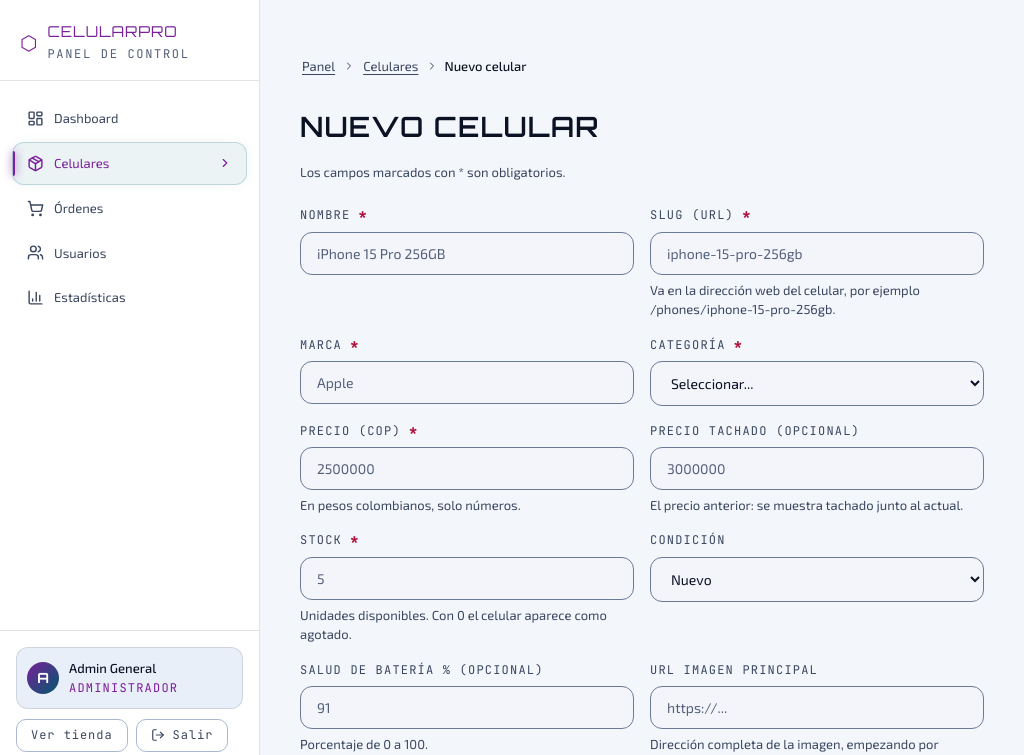
Test: ESC-30 · Seguridad (front) — administración del catálogo › al guardar, un 500 muestra el mensaje genérico y no el detalle interno
Check: the heading "Nuevo celular" is shown, box [300,109,599,144]
Type "Galaxy S24" into the field labelled "Nombre" at x=467, y=253, box [300,232,634,275]
Type "galaxy-s24" into the field labelled "Slug (URL)" at x=817, y=253, box [650,232,984,275]
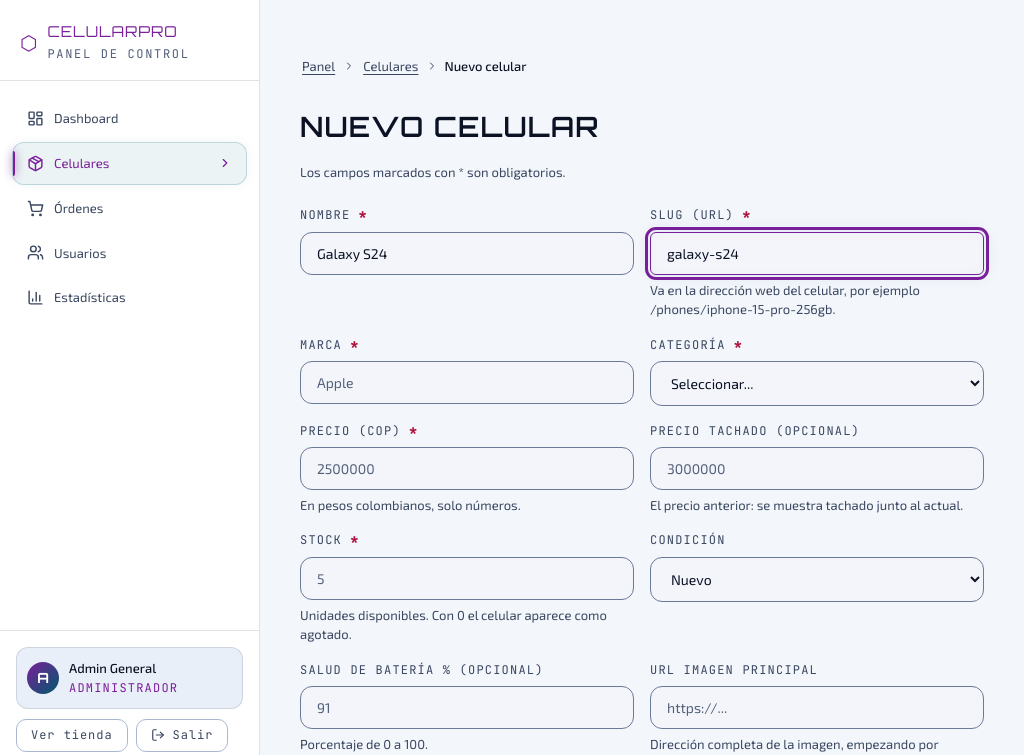
Type "Samsung" into the field labelled "Marca" at x=467, y=382, box [300,361,634,404]
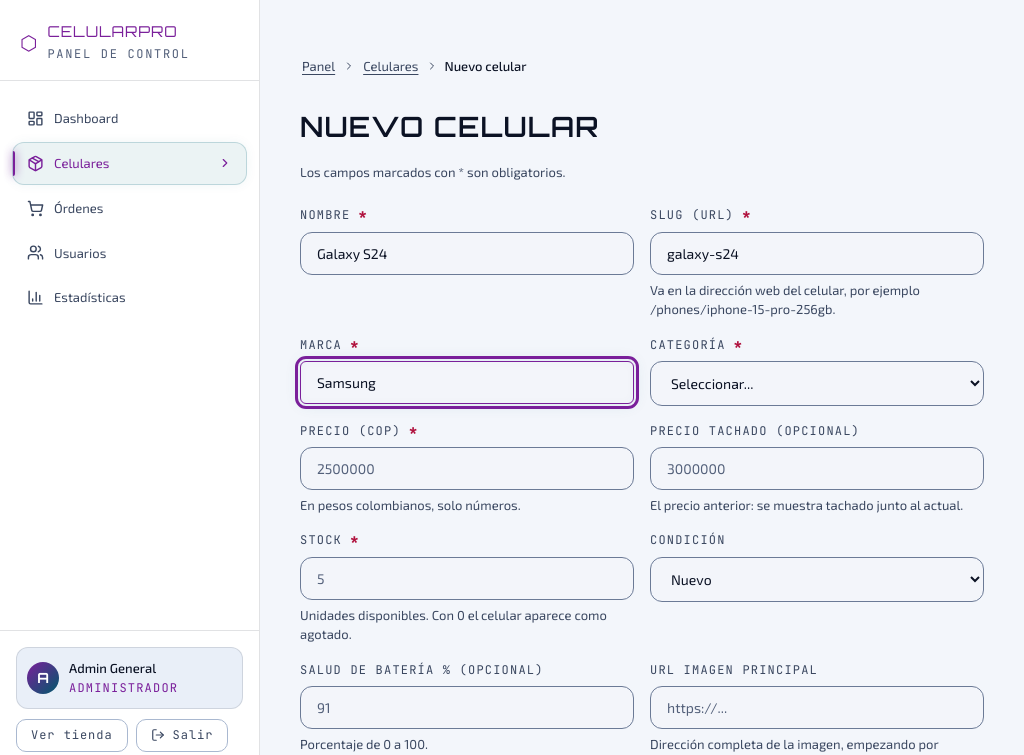
Select "Samsung" in the dropdown labelled "Categoría" at x=817, y=383, box [650,361,984,406]
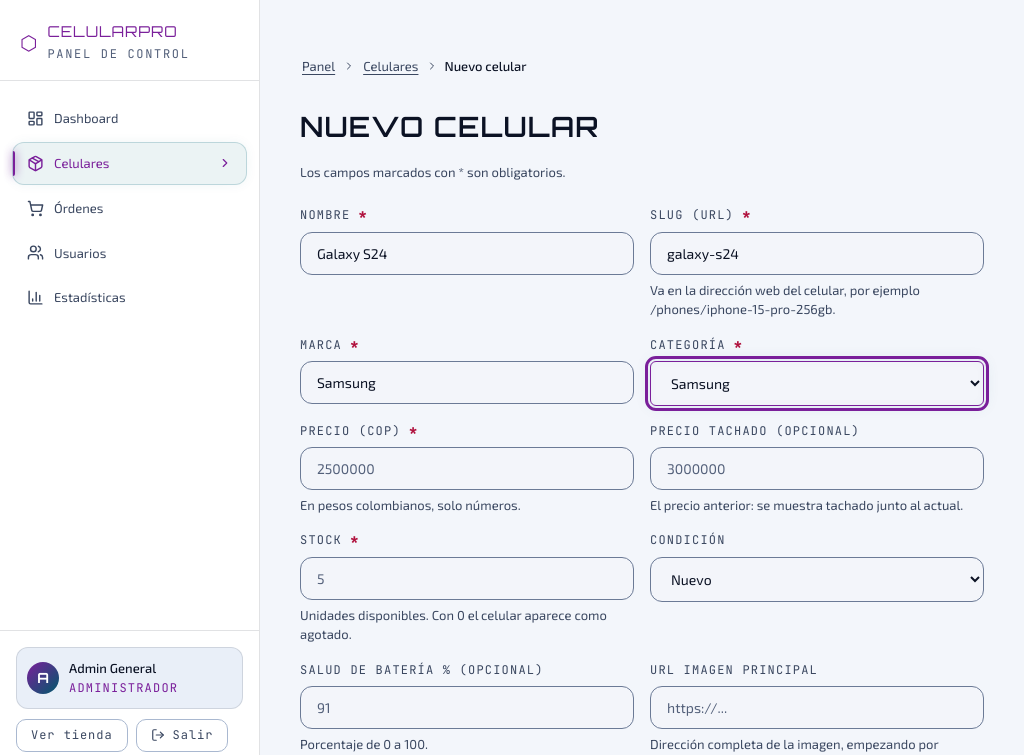
Type "3500000" into the number field labelled "Precio (COP)" at x=467, y=468, box [300,447,634,490]
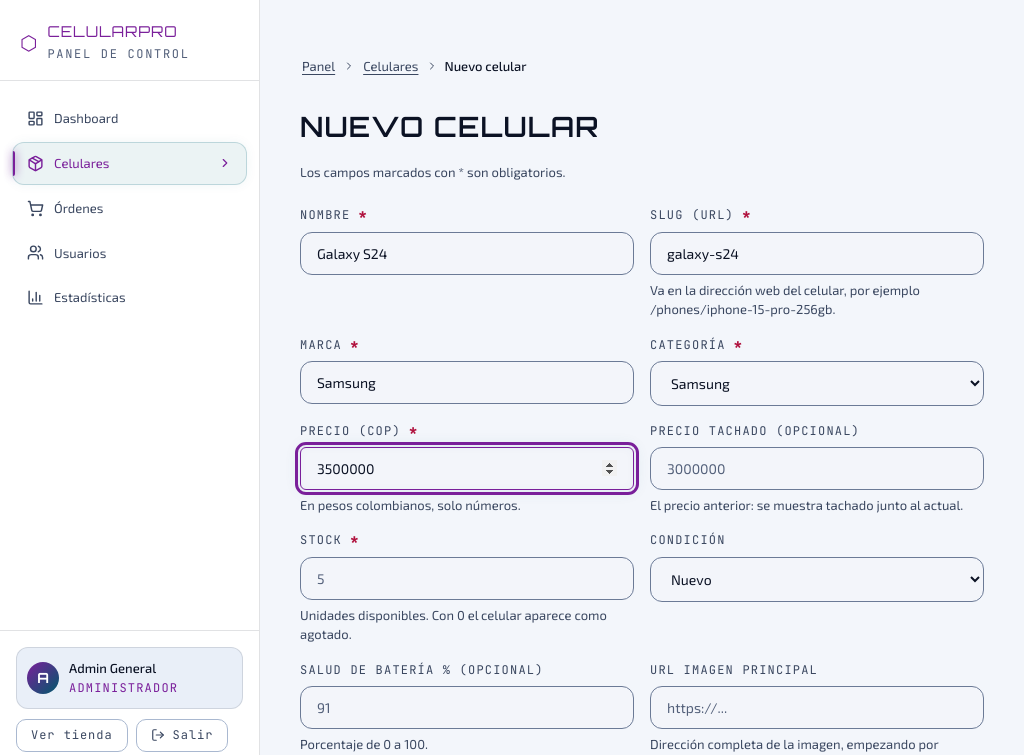
Type "4" into the number field labelled "Stock" at x=467, y=578, box [300,557,634,600]
(page scrolled)
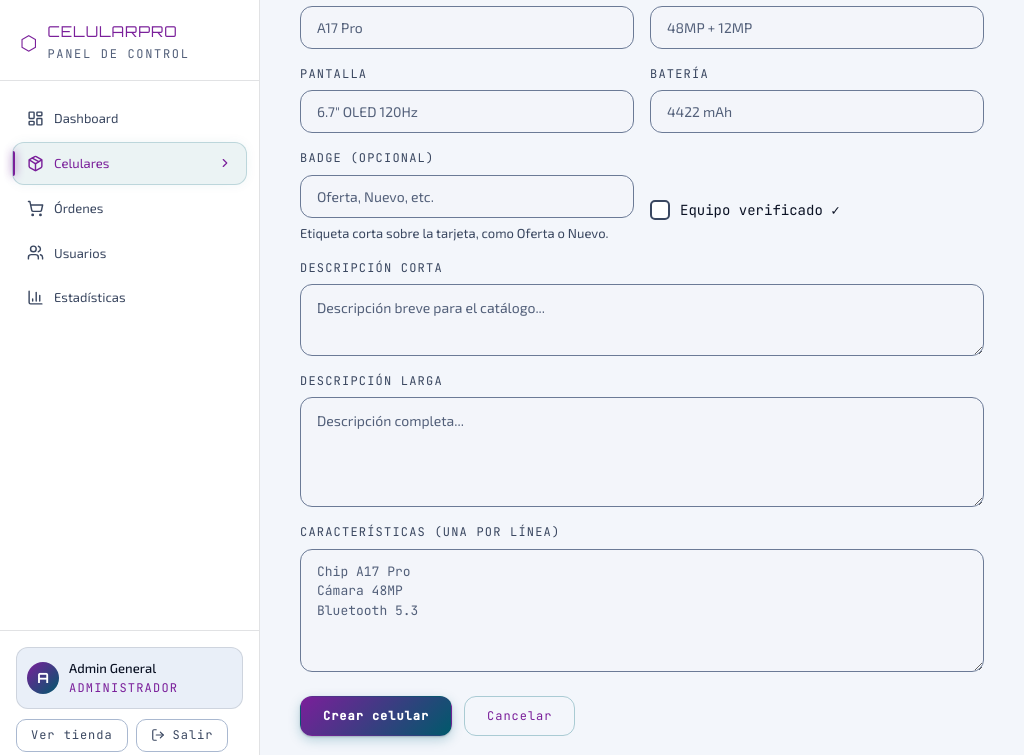
Click the button "Crear celular" at x=376, y=716, box [300,696,452,736]
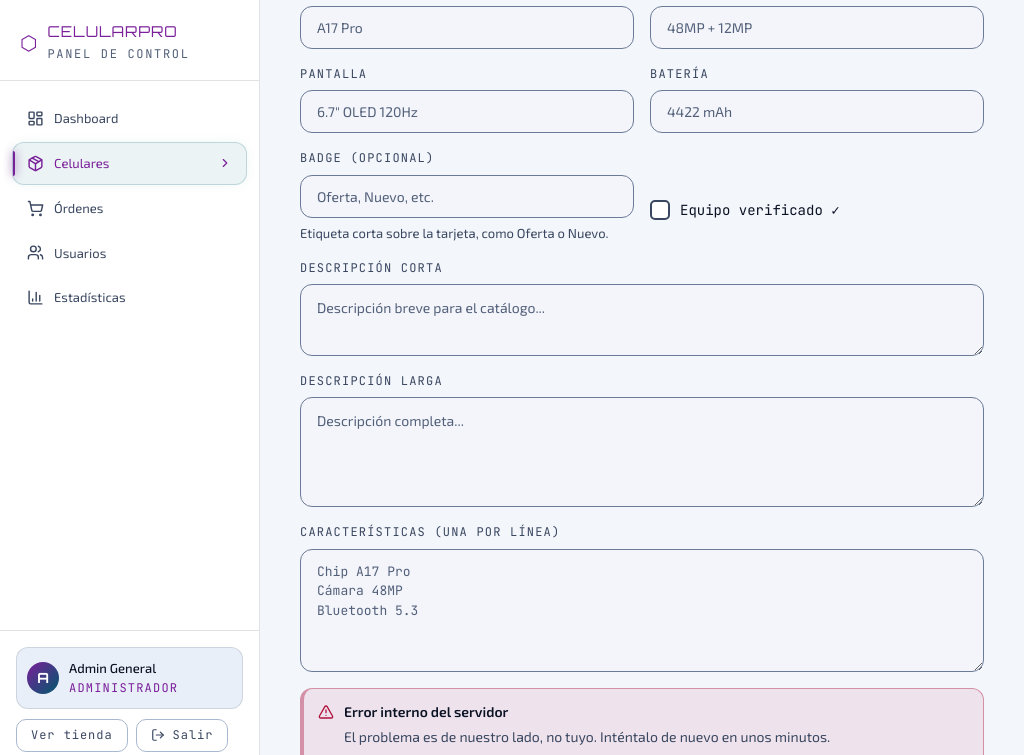
Check: the text "Error interno del servidor" is shown, box [344,703,508,720]
